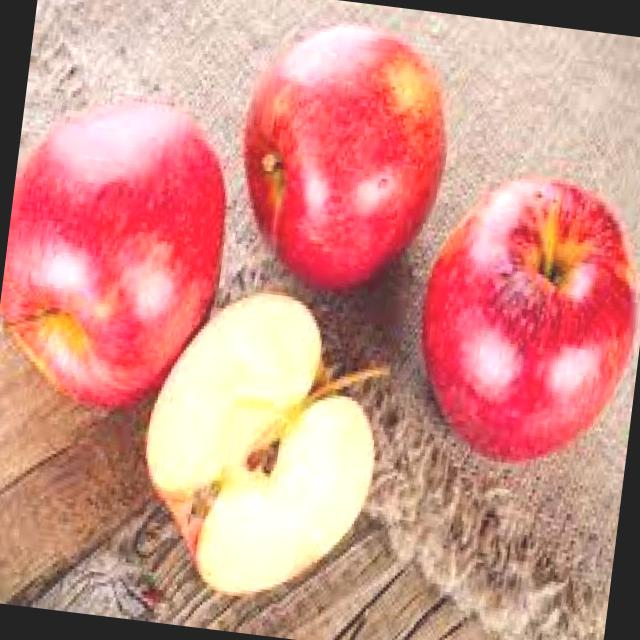Apple: (129, 278, 398, 611), (0, 81, 243, 422), (405, 158, 640, 476), (224, 7, 464, 304)
